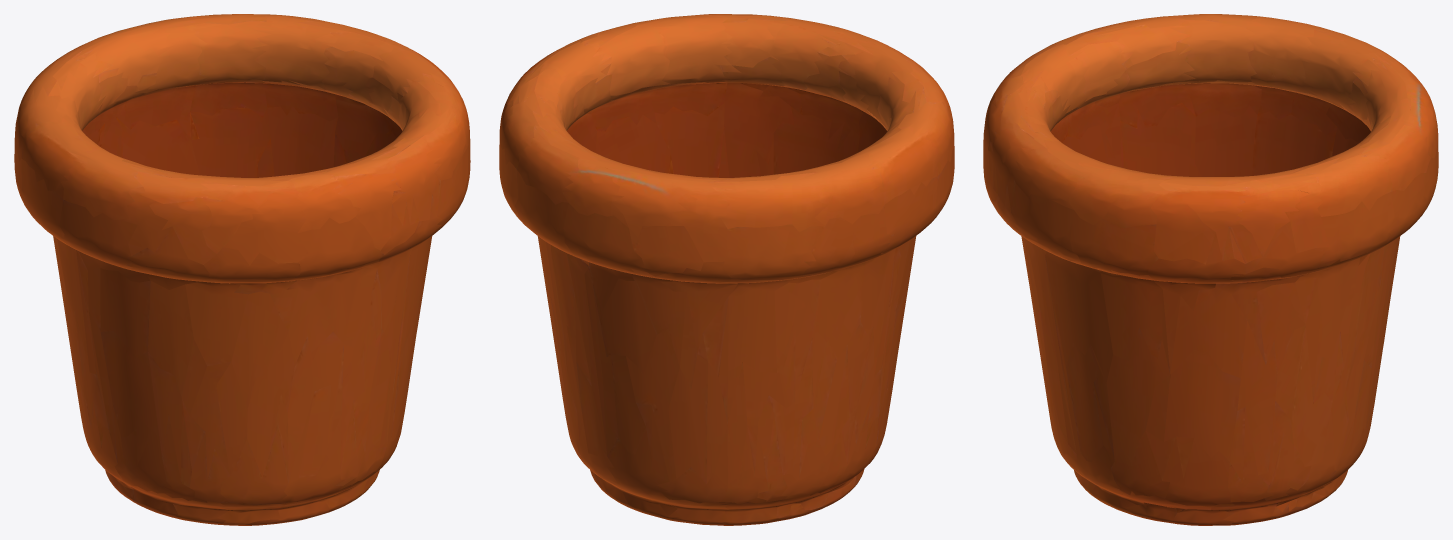
Rendered from pot.glb.
The picture shows the model from 3 angles, left to right: view 1: azimuth 30°, elevation 25°; view 2: azimuth 150°, elevation 25°; view 3: azimuth 270°, elevation 25°; orthographic projection.
Parts seen in each view (by area): view 1: Mesh_0; view 2: Mesh_0; view 3: Mesh_0.
Part boxes in pixels (left/top/right/bottom): Mesh_0: left=14, top=14, right=470, bottom=525; Mesh_0: left=499, top=14, right=954, bottom=525; Mesh_0: left=983, top=14, right=1438, bottom=525.
Bounding box in the file's own units: 1.9 × 1.72 × 1.9.
1 material, 1 textured.
